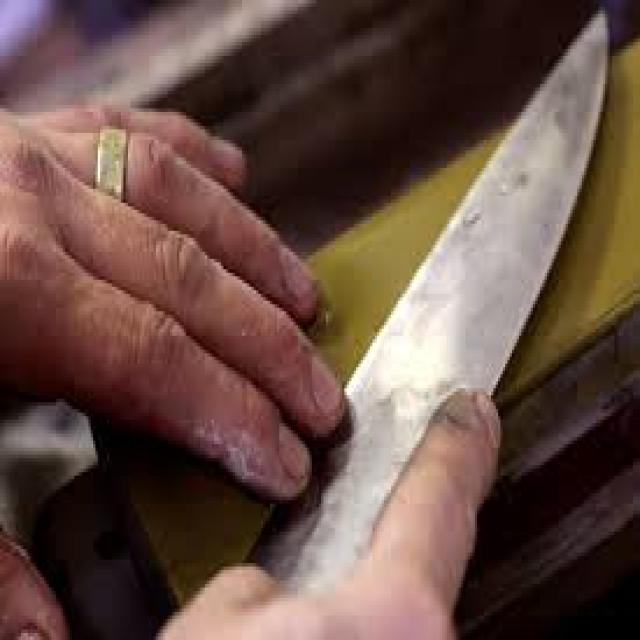knives: (247, 10, 607, 618)
